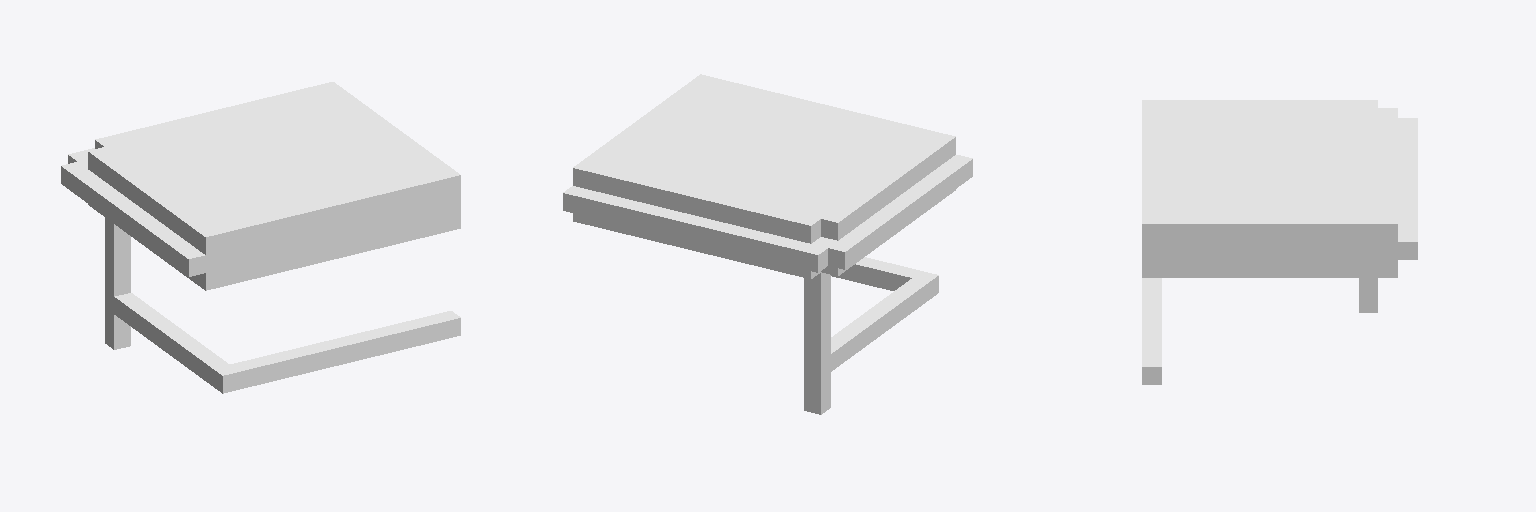
File: Interior_Furniture_Table_Piece_Big_01.obj
3 renders of one model, left to right at view 1: azimuth 30°, elevation 25°; view 2: azimuth 150°, elevation 25°; view 3: azimuth 270°, elevation 25°, orthographic.
Visible parts, largest first — view 1: object 1; view 2: object 1; view 3: object 1.
Boxes of the visible parts, box(x1,y1,x2,y2) form: object 1: box(61, 82, 460, 393); object 1: box(563, 74, 972, 414); object 1: box(1142, 100, 1417, 384).
Bounding box in the file's own units: 1.6 × 1.1 × 1.4.